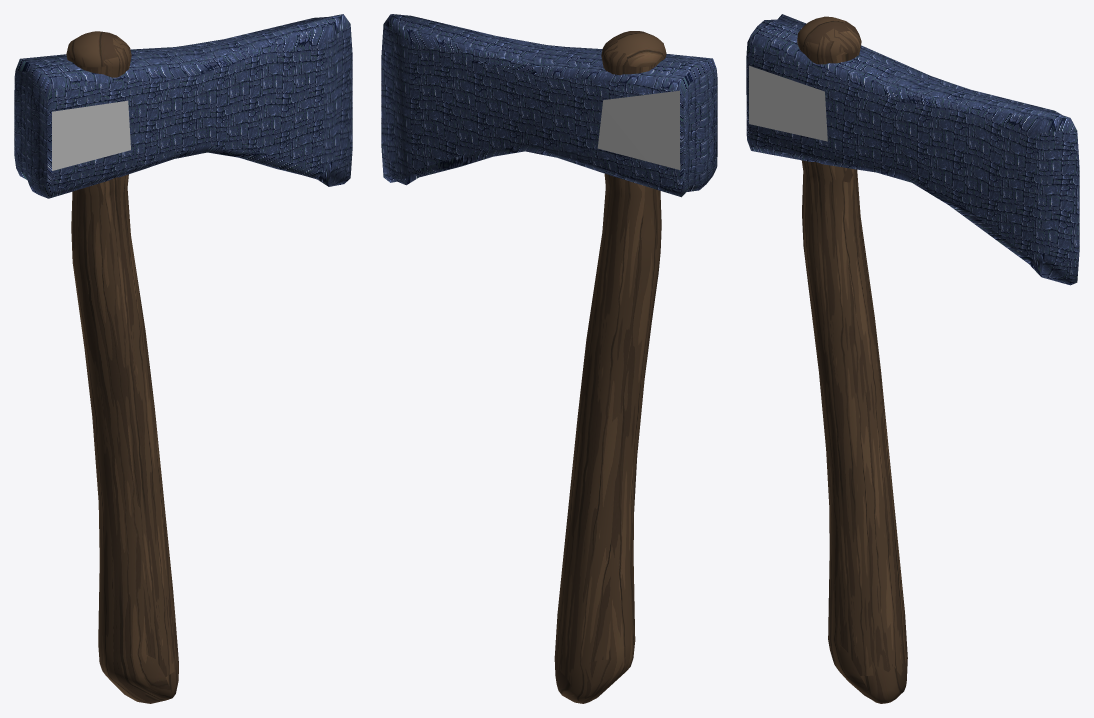
File: hacha.obj
The picture shows the model from 3 angles, left to right: view 1: azimuth 30°, elevation 25°; view 2: azimuth 150°, elevation 25°; view 3: azimuth 330°, elevation 25°; orthographic projection.
Parts seen in each view (by area): view 1: hacha, Texture1; view 2: hacha, Texture2; view 3: hacha, Texture1.
Part boxes in pixels (left/top/right/bottom): hacha: left=14, top=14, right=352, bottom=703; Texture1: left=52, top=100, right=130, bottom=170; hacha: left=381, top=14, right=717, bottom=703; Texture2: left=597, top=90, right=680, bottom=169; hacha: left=746, top=14, right=1079, bottom=703; Texture1: left=749, top=65, right=827, bottom=141.
Size of the model in its own units: 0.6417 by 1.28 by 0.128.
